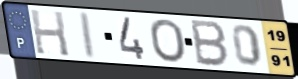0: (230, 23, 264, 70)
4: (119, 16, 147, 61)
B: (190, 18, 230, 69)
H: (28, 8, 72, 59)
I: (80, 10, 98, 60)
O: (148, 18, 188, 65)
